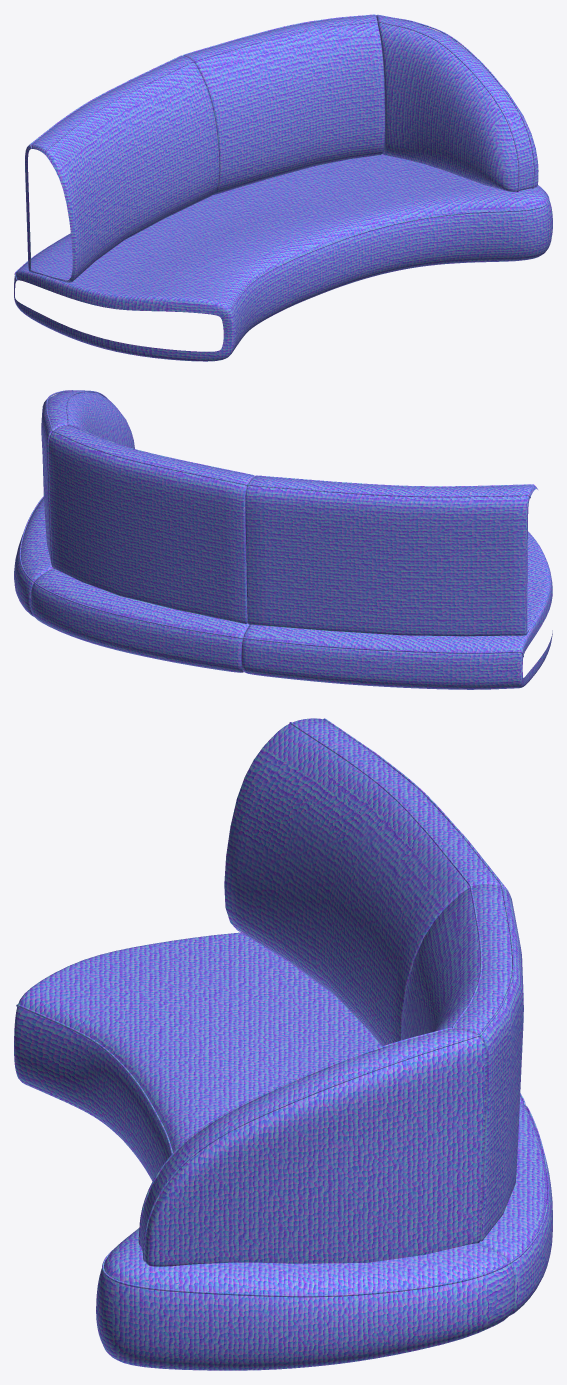
File: levante_s_male_mirror.gltf
The picture shows the model from 3 angles, top to bottom: view 1: azimuth 30°, elevation 25°; view 2: azimuth 150°, elevation 25°; view 3: azimuth 270°, elevation 25°; orthographic projection. The views are drawn at different scales.
Visible parts, largest first — view 1: levante_s_male001; view 2: levante_s_male001; view 3: levante_s_male001.
Boxes of the visible parts, x1=… form: levante_s_male001: x1=14, y1=14, x2=552, y2=361; levante_s_male001: x1=14, y1=390, x2=552, y2=689; levante_s_male001: x1=14, y1=718, x2=552, y2=1370.
Size of the model in its own units: 1.91 by 0.6903 by 1.15.
Materials: 1 (1 with a texture image).
